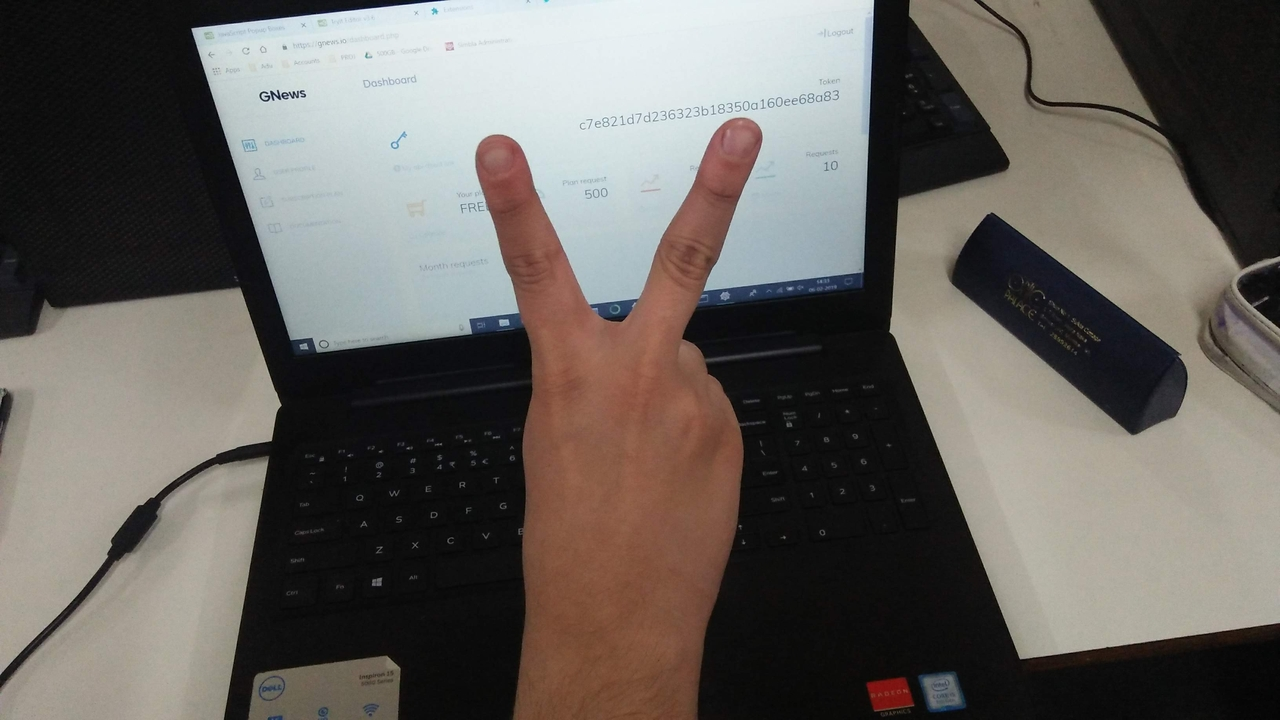fingertip: (468, 132, 530, 188), (702, 118, 766, 172)
